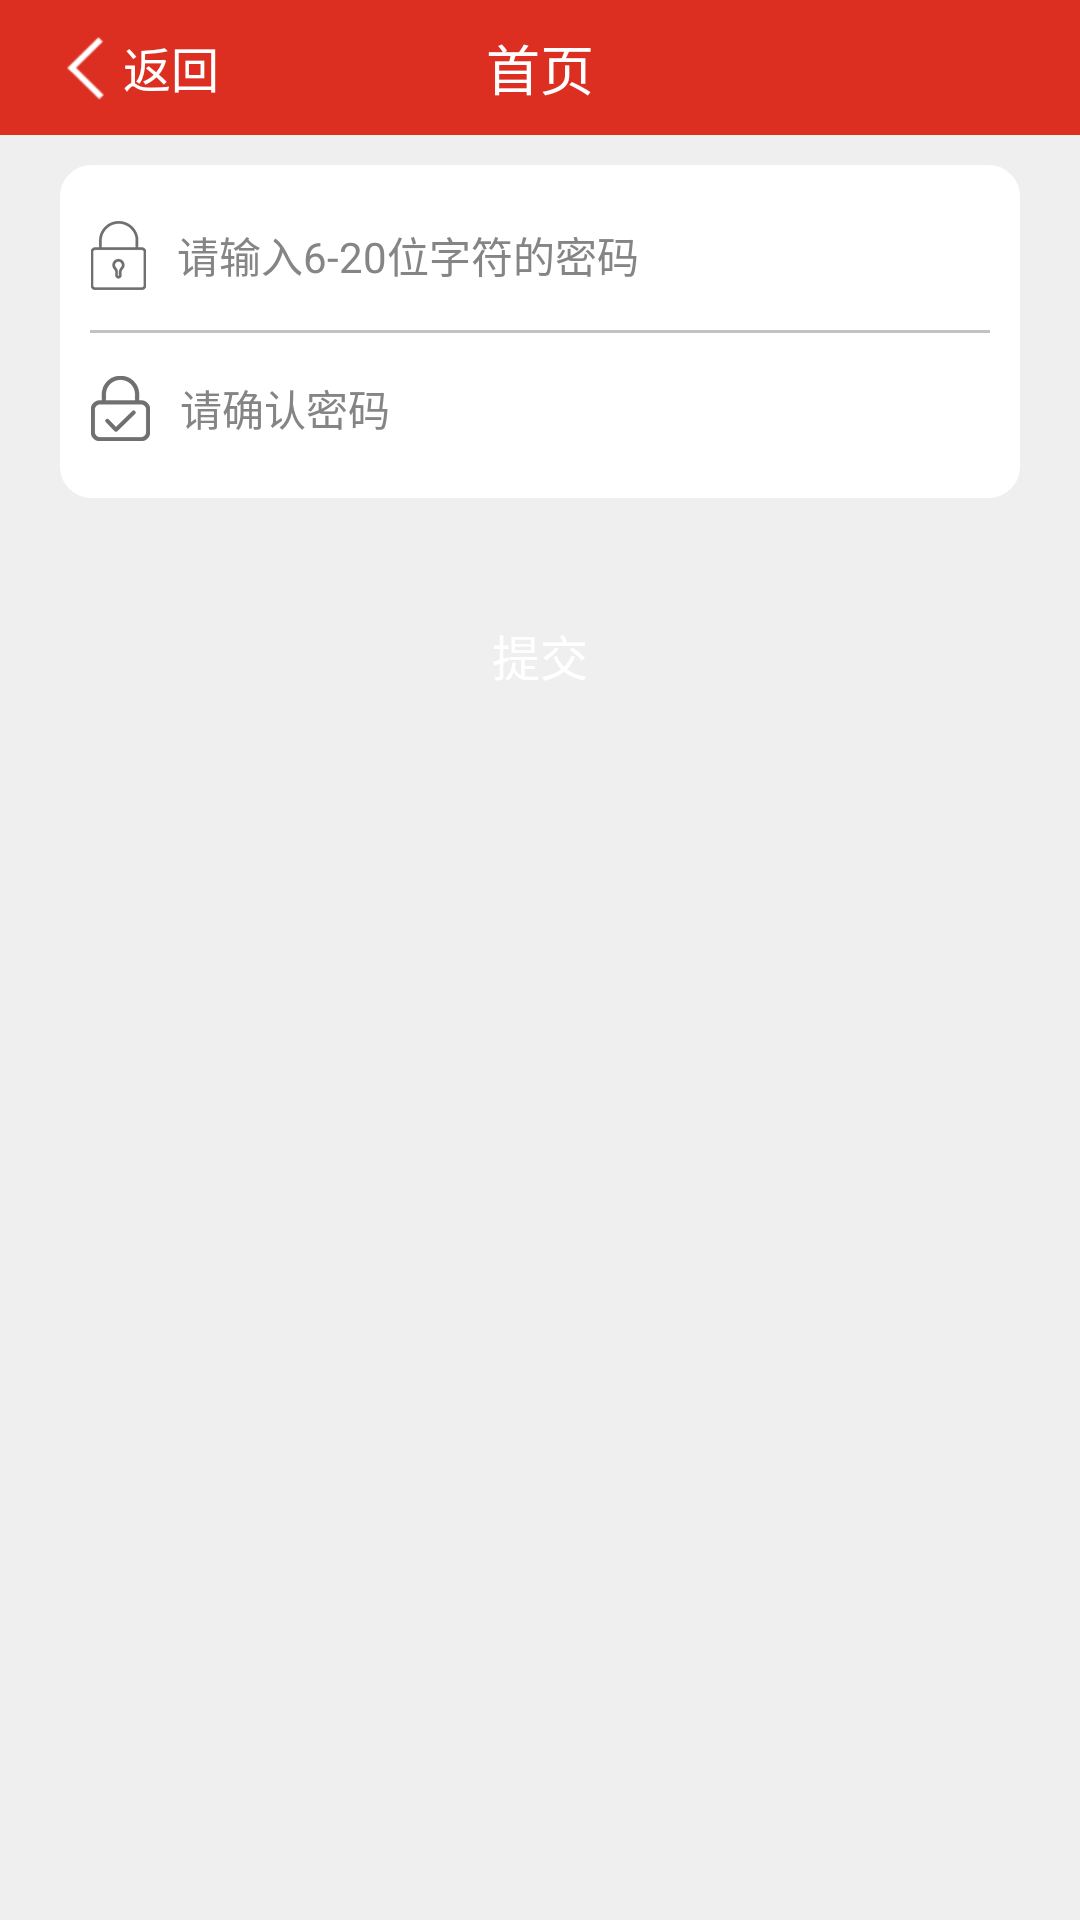

Screen size 1080px x 1920px. Icon name, then its box in pixels as (x1, y1, x2, y2):
go back: (67, 37, 104, 100)
login password: (91, 221, 146, 290)
login password again: (91, 376, 150, 441)
